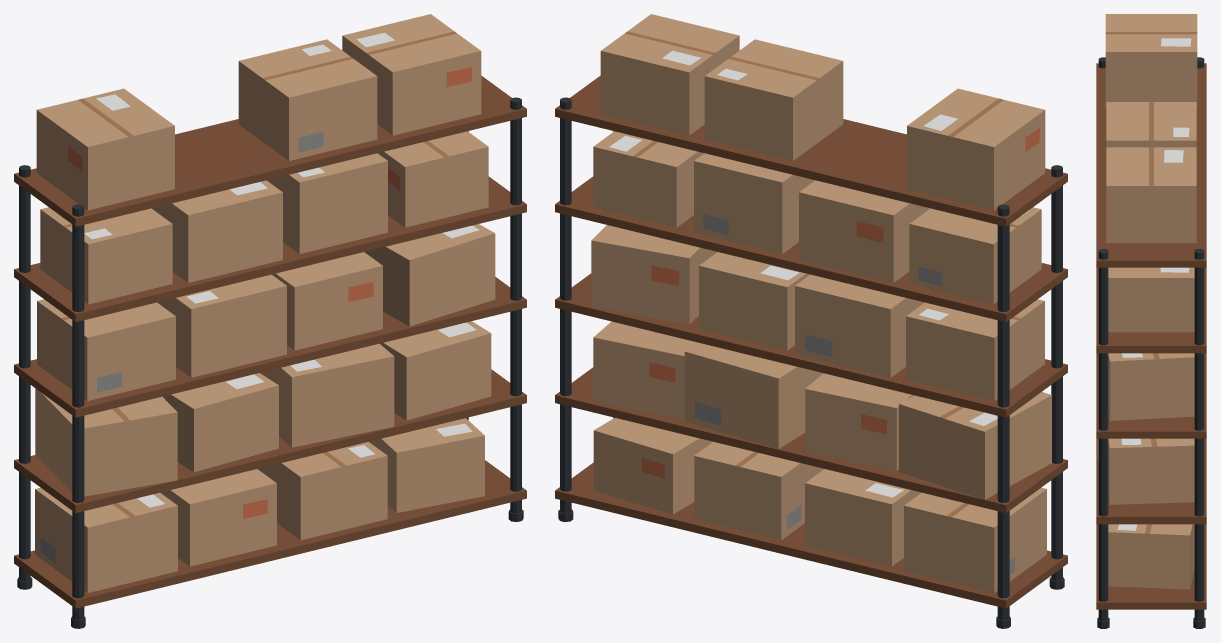
The model's file is SM_Props_Rack_04.glb.
The picture shows the model from 3 angles, left to right: view 1: azimuth 30°, elevation 25°; view 2: azimuth 150°, elevation 25°; view 3: azimuth 270°, elevation 25°; orthographic projection. The views are drawn at different scales.
Parts seen in each view (by area): view 1: SM_Props_Rack_04; view 2: SM_Props_Rack_04; view 3: SM_Props_Rack_04.
Boxes of the visible parts, <box> form: SM_Props_Rack_04: <box>14,14,526,628</box>; SM_Props_Rack_04: <box>555,14,1067,628</box>; SM_Props_Rack_04: <box>1096,14,1206,628</box>.
Bounding box in the file's own units: 2.44 × 2.45 × 0.5767.
1 material, 1 textured.
